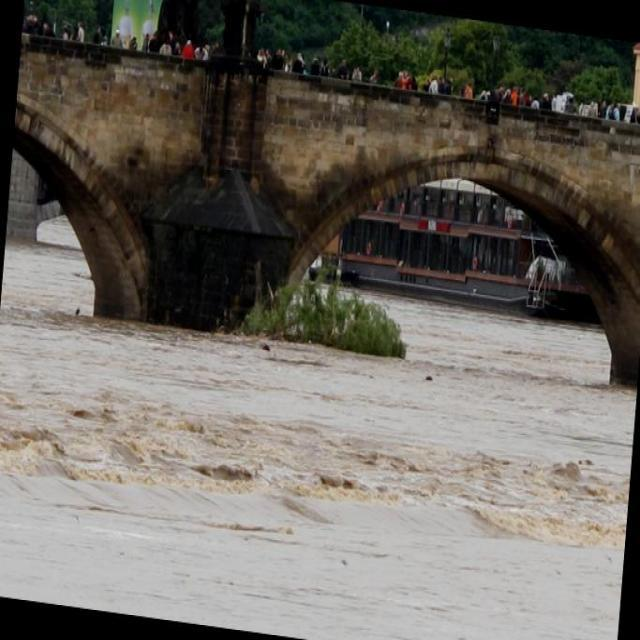flood: (0, 225, 639, 639)
